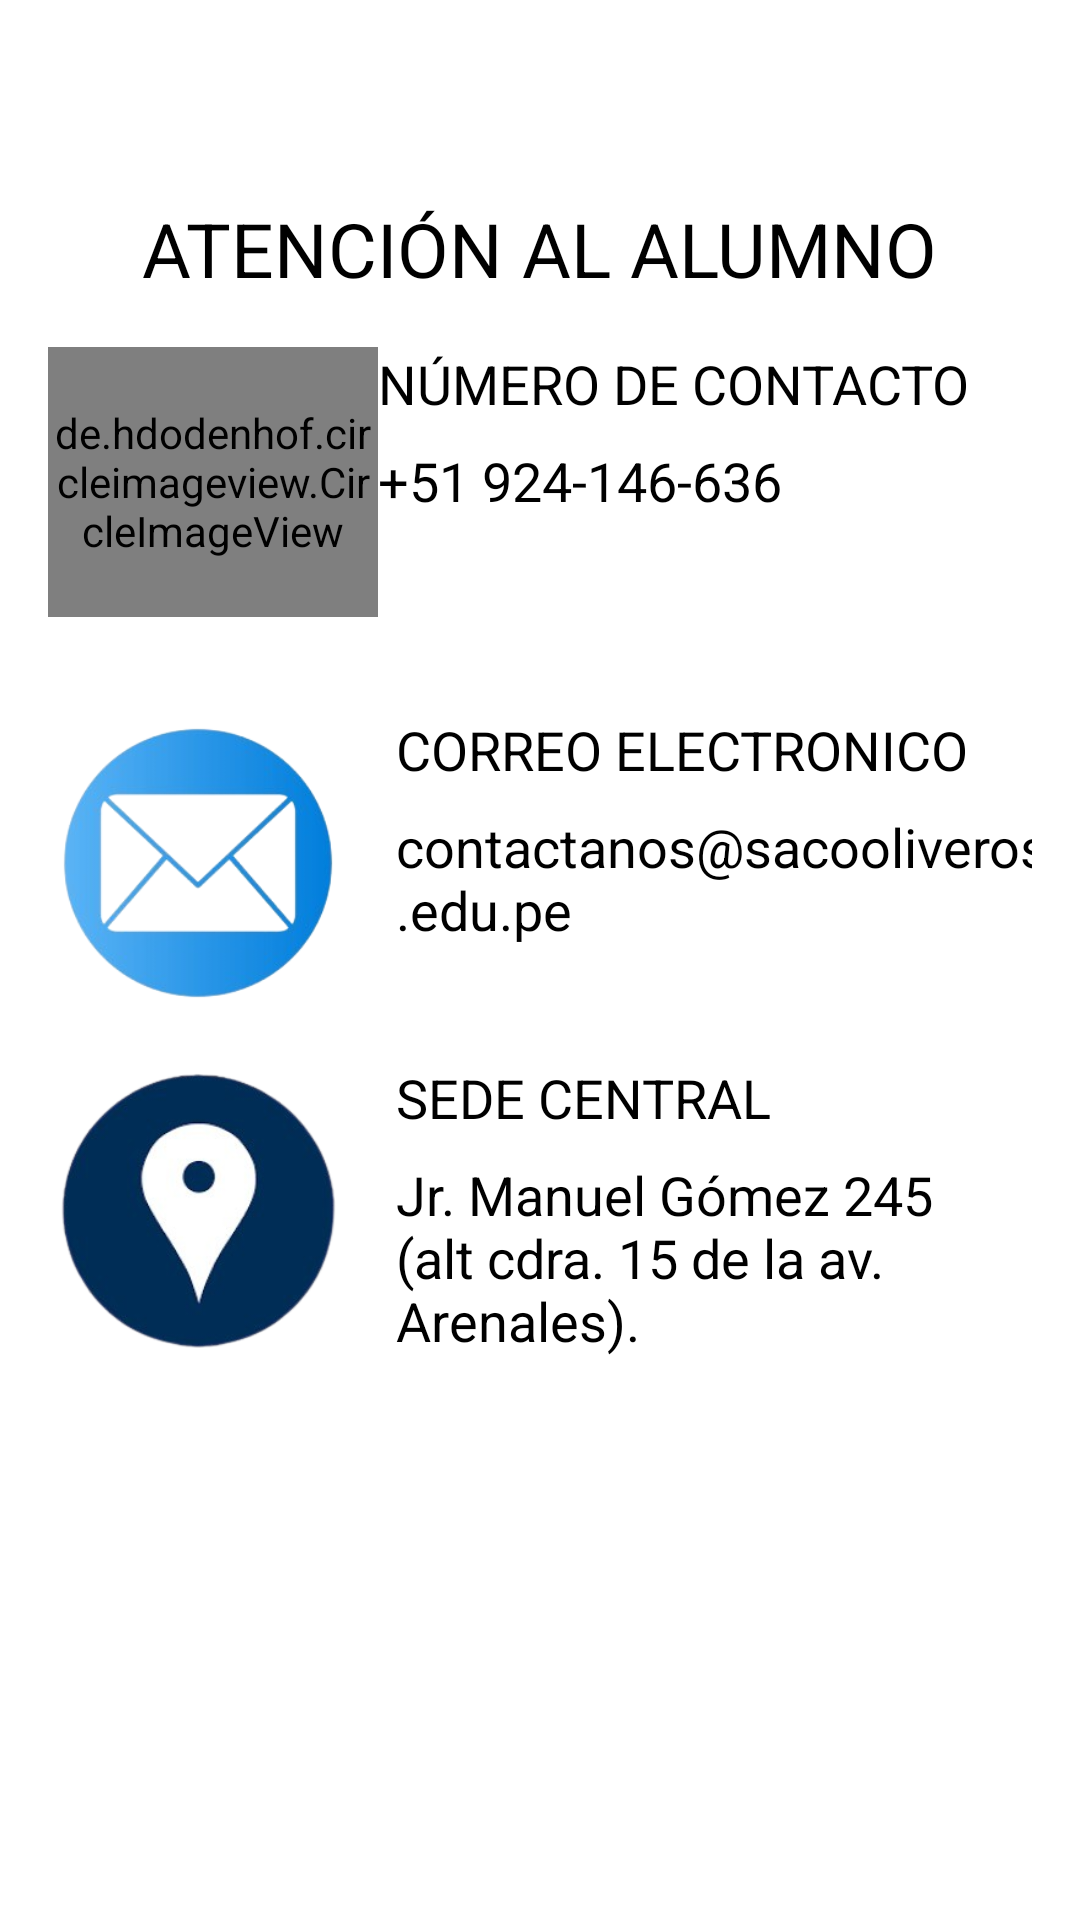

Locate icon controls on the screen. Image size 1080x1920, boxes as (x1, y1, x2, y2).
correoss: (64, 729, 332, 997)
ubicaciongps: (62, 1074, 335, 1348)
